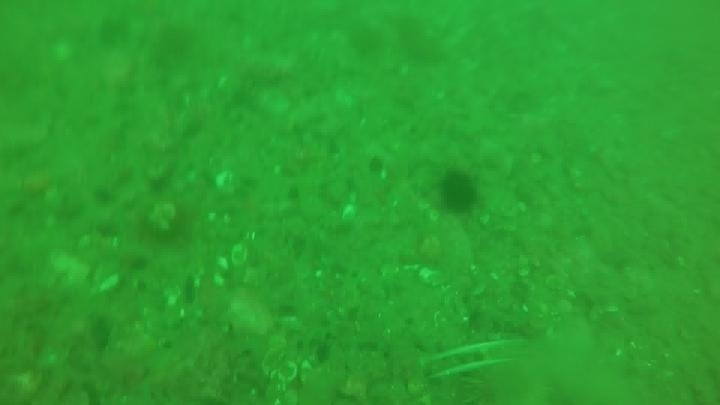echinus: (437, 169, 481, 216)
